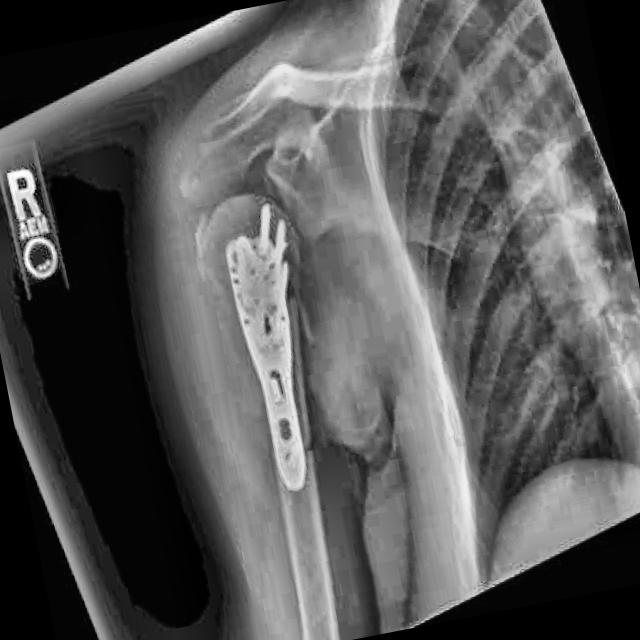shoulder fracture: (227, 36, 321, 144)
